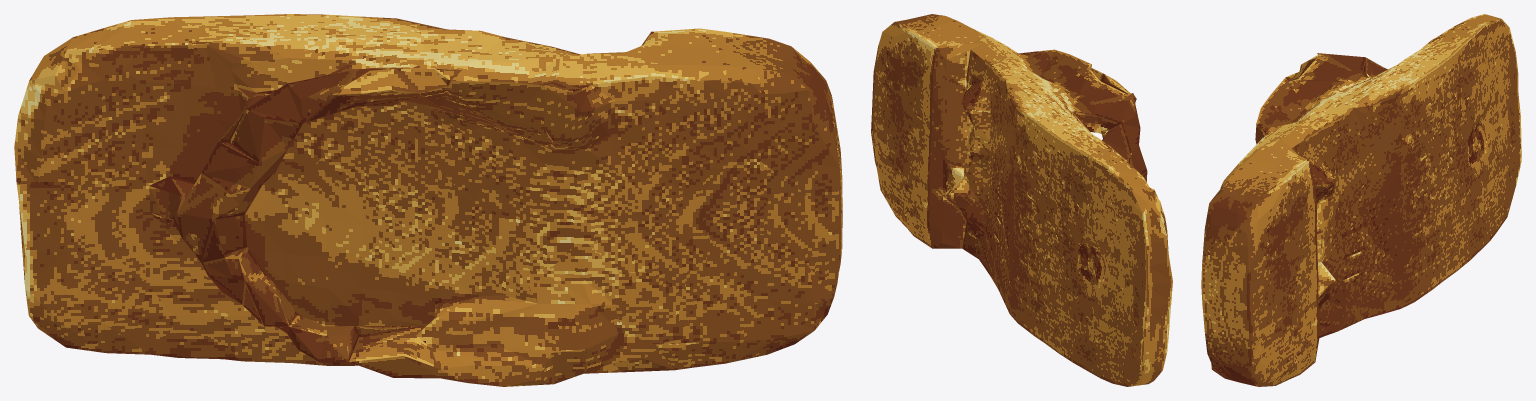
Rendered from geta.glb.
3 views of the same model, side by side, from view 1: azimuth 30°, elevation 25°; view 2: azimuth 150°, elevation 25°; view 3: azimuth 270°, elevation 25° (orthographic). The views are drawn at different scales.
Parts seen in each view (by area): view 1: model_m; view 2: model_m; view 3: model_m.
Boxes of the visible parts, <box> form: model_m: <box>14,14,842,386</box>; model_m: <box>871,14,1172,386</box>; model_m: <box>1201,14,1521,386</box>.
Size of the model in its own units: 36.26 by 18.42 by 23.43.
1 material, 1 textured.
